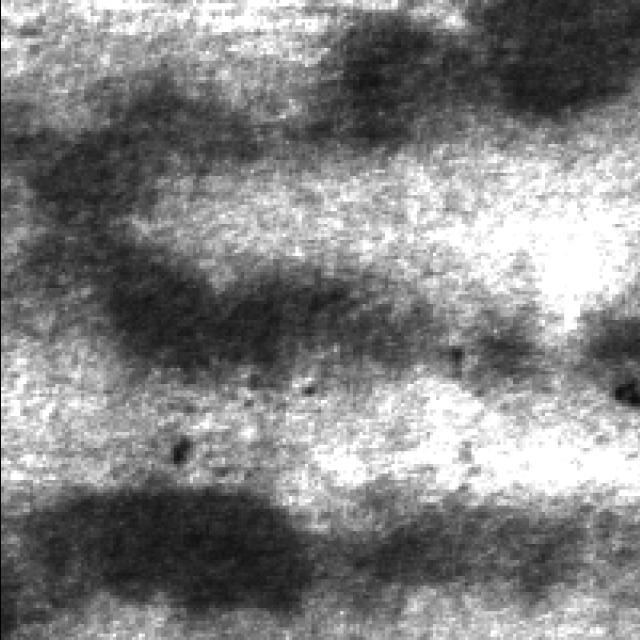patches: (16, 214, 636, 452), (2, 470, 640, 640), (0, 16, 637, 173)
